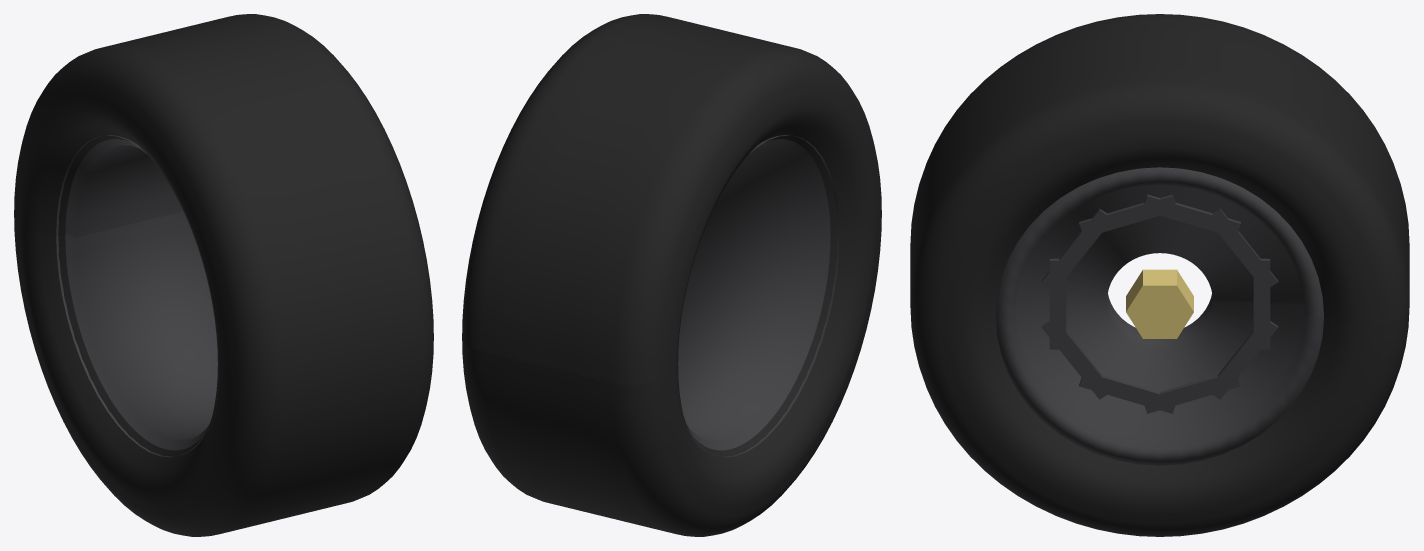
File: wheel_front.glb
3 renders of one model, left to right at view 1: azimuth 30°, elevation 25°; view 2: azimuth 150°, elevation 25°; view 3: azimuth 270°, elevation 25°, orthographic.
Visible parts, largest first — view 1: FrontTire, FrontRim; view 2: FrontTire, FrontRim; view 3: FrontTire, FrontRim.
Part boxes in pixels (x1,y1,x2,y2): FrontTire: [14, 14, 433, 536]; FrontRim: [56, 135, 217, 457]; FrontTire: [462, 14, 881, 536]; FrontRim: [678, 135, 839, 457]; FrontTire: [910, 14, 1409, 536]; FrontRim: [996, 167, 1323, 465].
Size of the model in its own units: 0.312 by 0.66 by 0.66.
